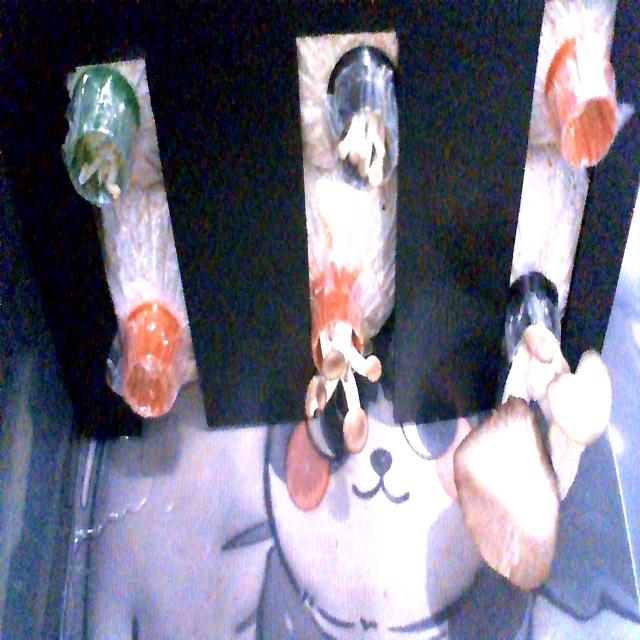big: (445, 329, 623, 598)
nfound: (324, 93, 408, 195), (556, 83, 620, 181), (121, 348, 190, 433)
small: (301, 313, 387, 458), (58, 117, 139, 220)
